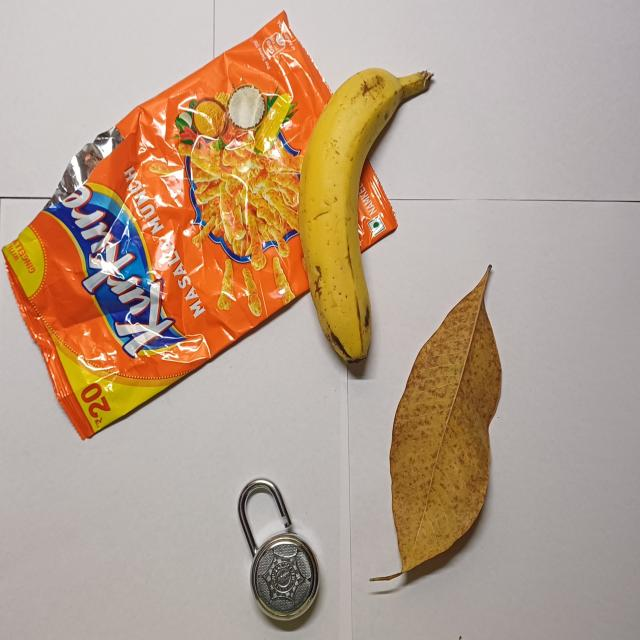Banana-Bio: (294, 61, 437, 385)
Leaf-Bio: (365, 256, 506, 586)
Plastic-NonBio: (3, 2, 401, 442)
Steel-NonBio: (233, 477, 324, 633)
